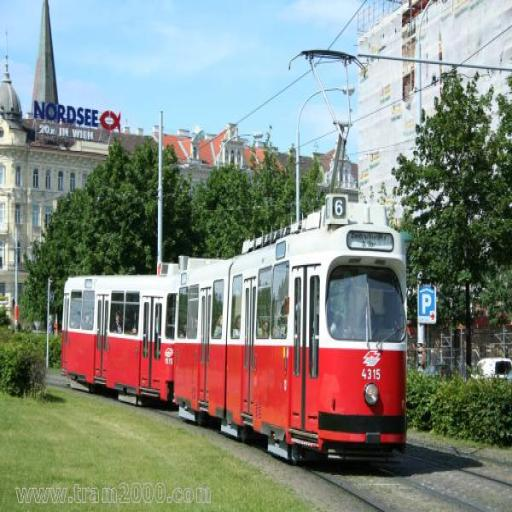E2-Tram: (60, 191, 411, 465)
